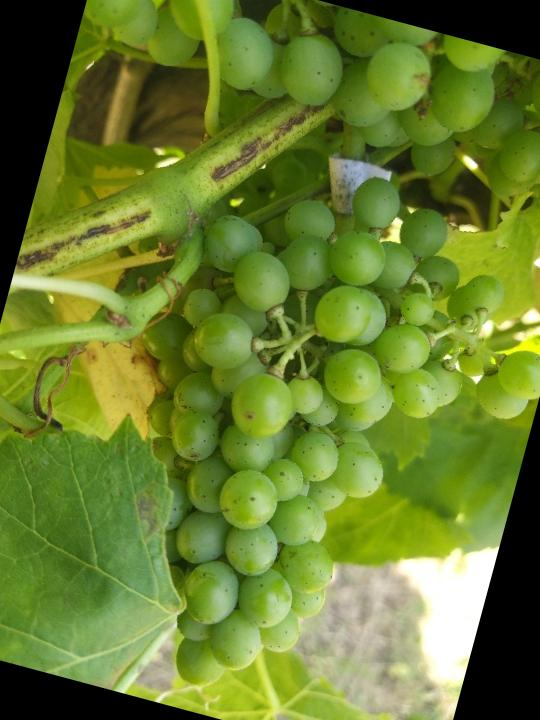grape: (58, 129, 540, 720)
